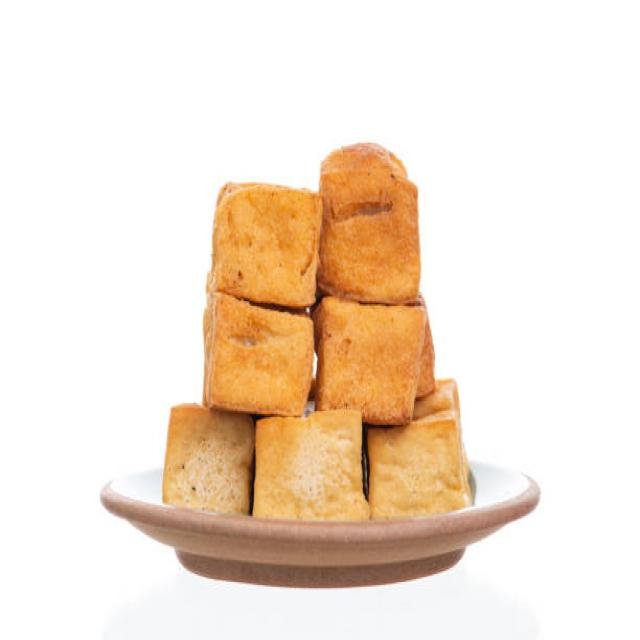tofu: (322, 140, 425, 306), (202, 177, 323, 309), (314, 294, 428, 422), (200, 293, 313, 419), (255, 410, 368, 520), (368, 414, 469, 512), (156, 408, 254, 507)
